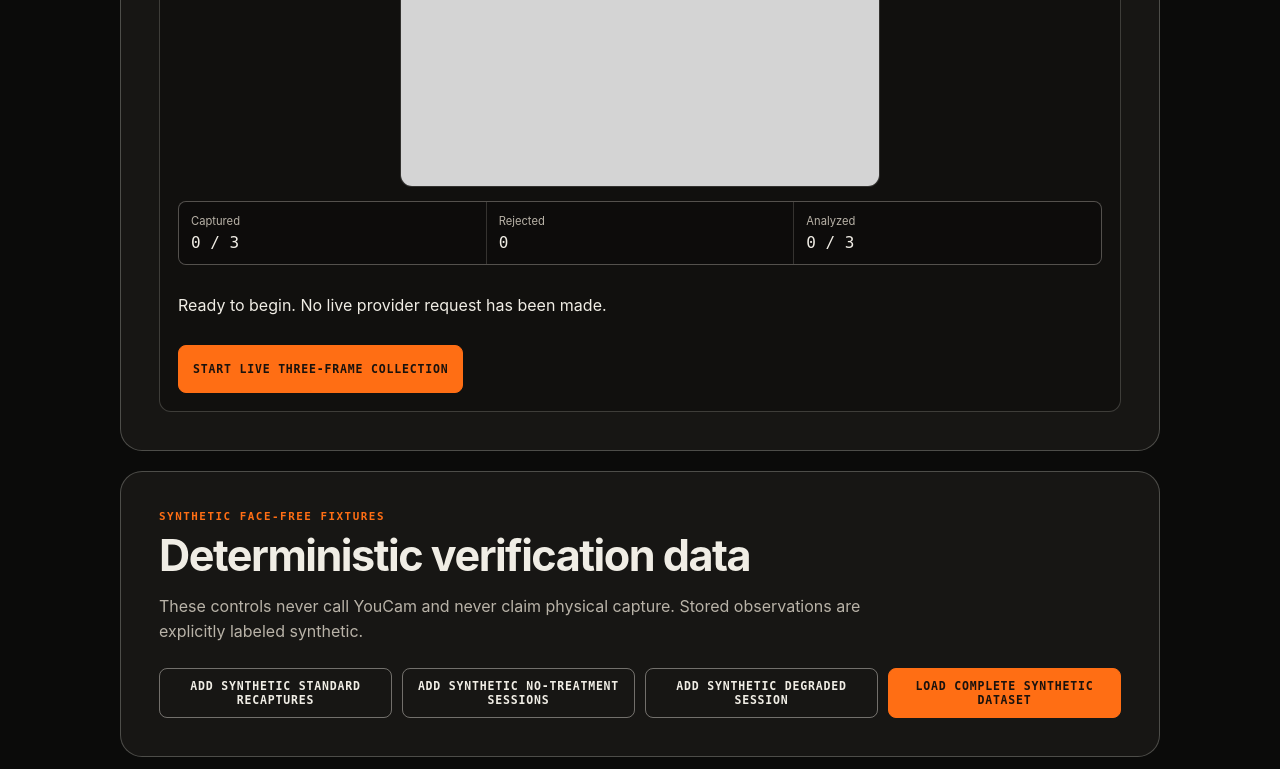
Test: completed live redness calibration collection › shows the real CreditInsufficiency result and writes no partial observation
(page scrolled)
Step 1. Click the button "START LIVE THREE-FRAME COLLECTION" → (321, 369), box [178,345,463,393]
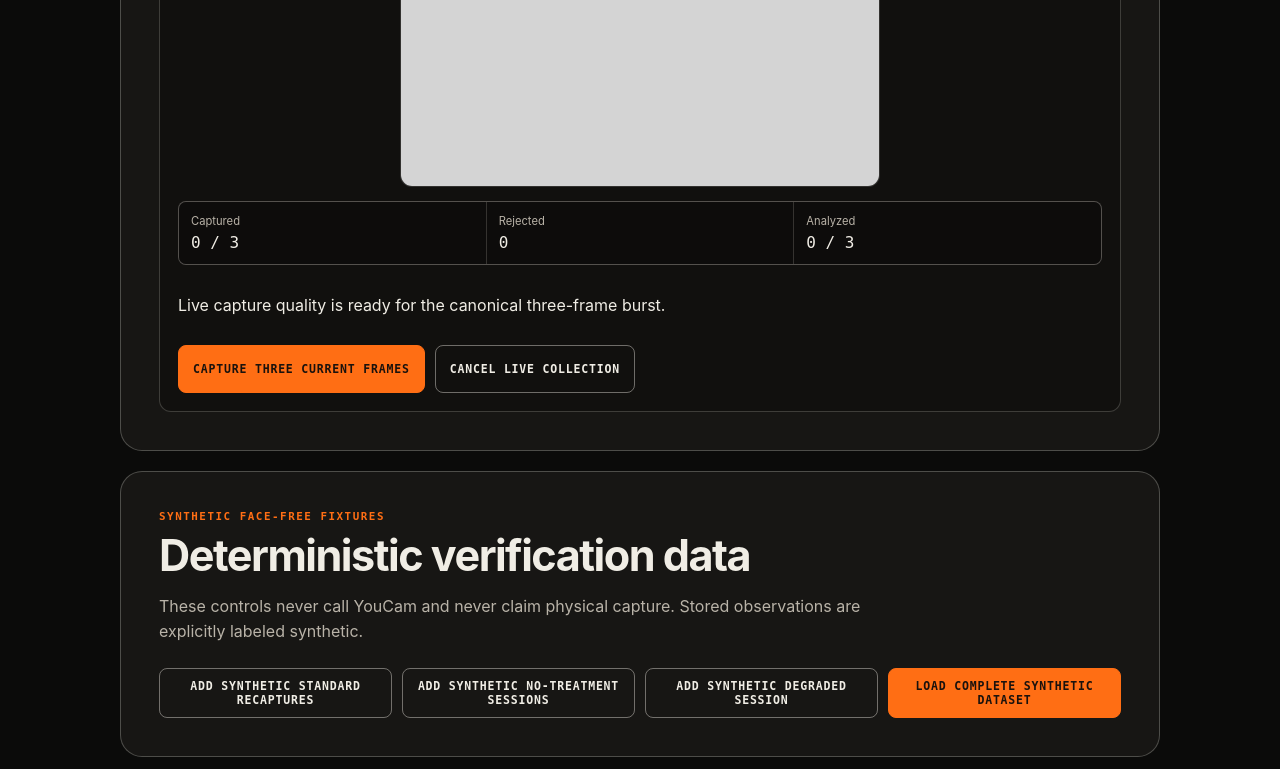
Step 2. Click the button "CAPTURE THREE CURRENT FRAMES" → (301, 369), box [178,345,425,393]
(page scrolled)
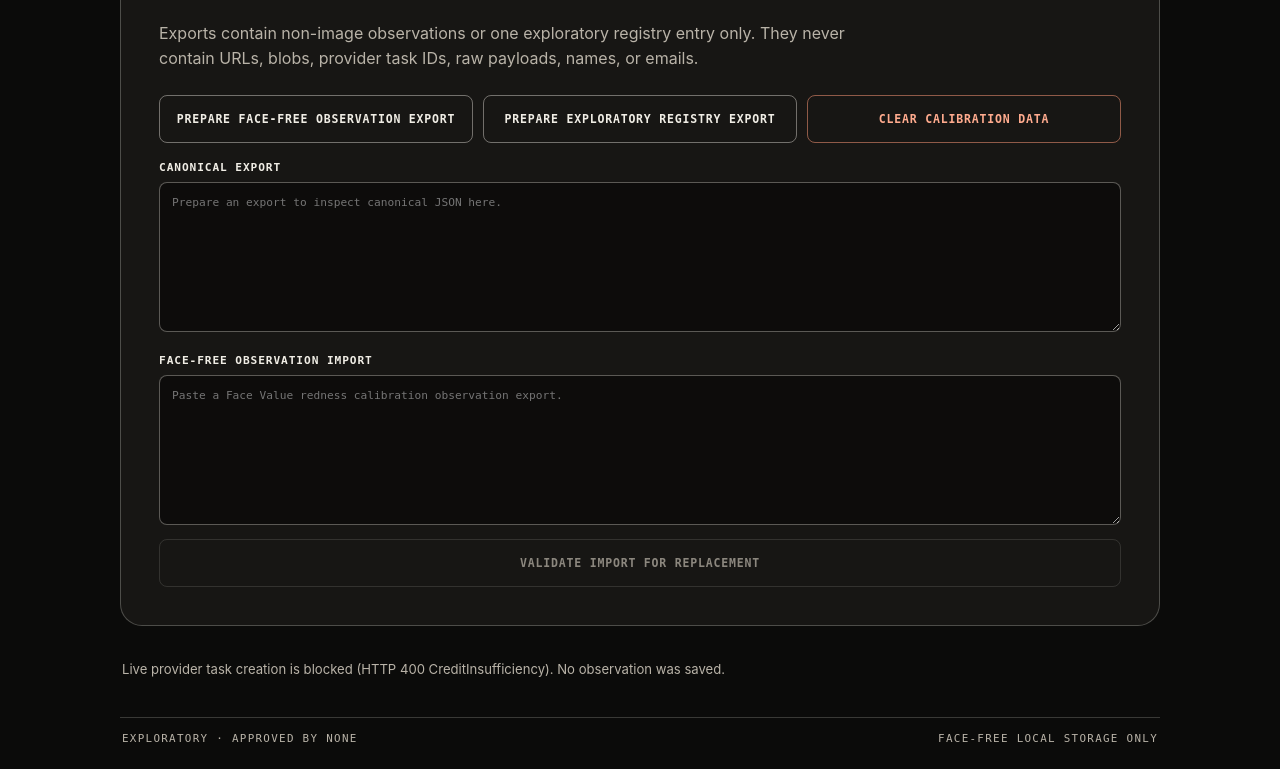
Now the message shows "HTTP 400 CreditInsufficiency", box [122,661,725,677]
